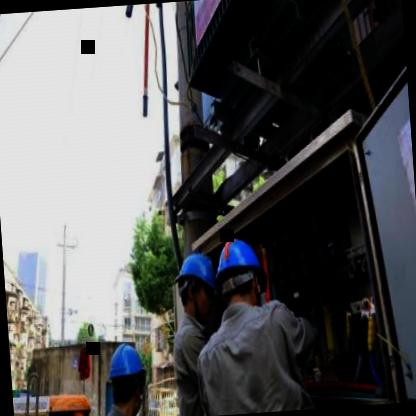helmet: (212, 232, 270, 324), (172, 246, 223, 327), (105, 338, 149, 416)
